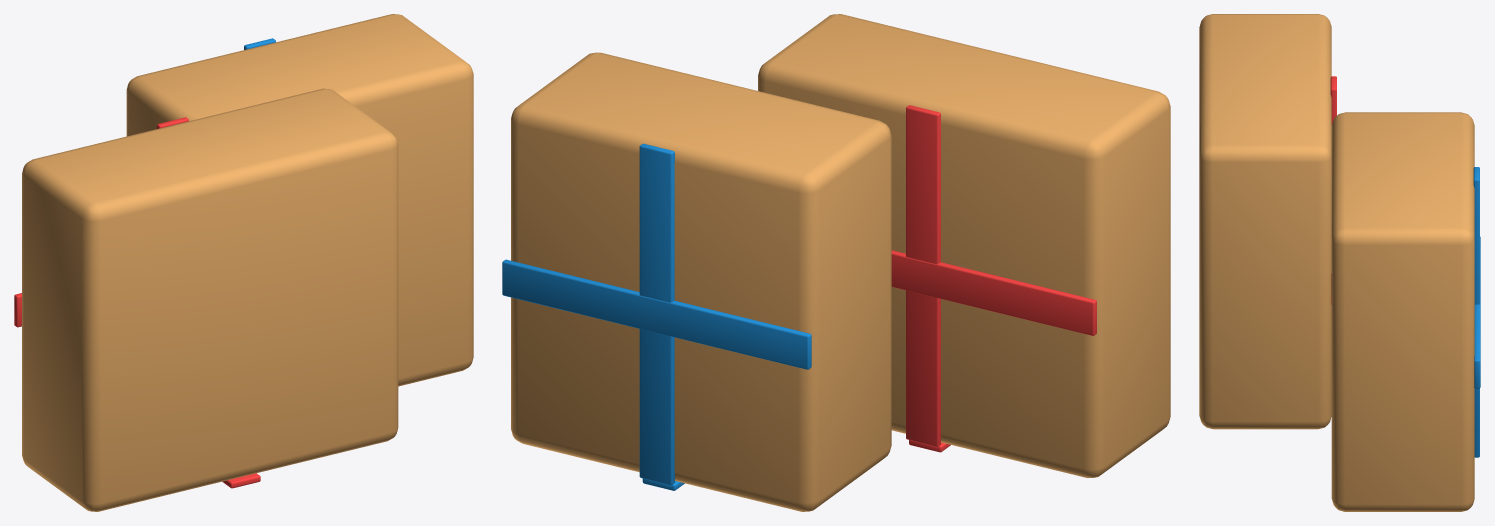
The model's file is PlayfulParcelStack.fbx.
The picture shows the model from 3 angles, left to right: view 1: azimuth 30°, elevation 25°; view 2: azimuth 150°, elevation 25°; view 3: azimuth 270°, elevation 25°; orthographic projection. The views are drawn at different scales.
Parts seen in each view (by area): view 1: PlayfulParcelStack; view 2: PlayfulParcelStack; view 3: PlayfulParcelStack.
Boxes of the visible parts, box(x1,y1,x2,y2) form: PlayfulParcelStack: box(14, 14, 473, 511); PlayfulParcelStack: box(502, 14, 1170, 511); PlayfulParcelStack: box(1199, 14, 1480, 511).
Bounding box in the file's own units: 0.925 × 0.643 × 0.531.
